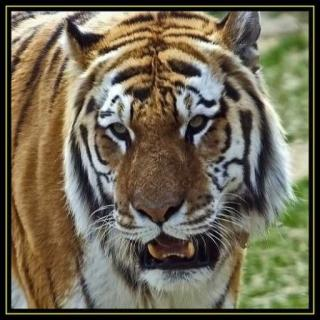Tiger: (12, 11, 297, 304)
